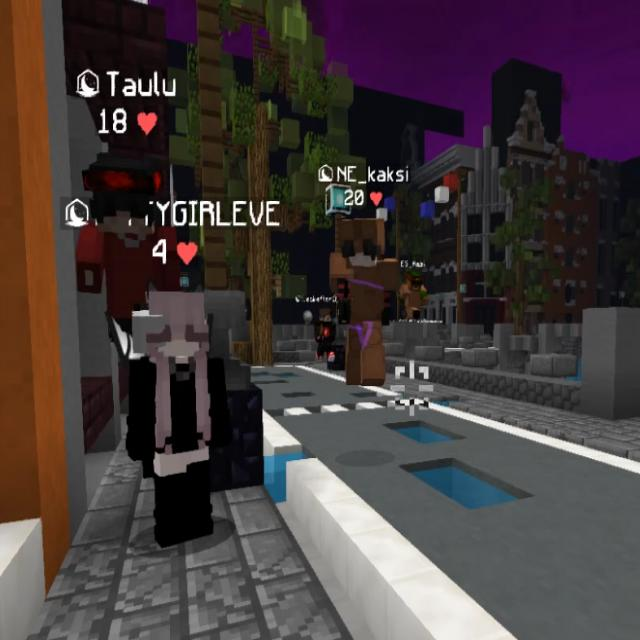Player: (125, 290, 227, 546), (77, 151, 178, 301), (328, 215, 394, 384), (398, 270, 428, 322), (314, 309, 336, 363)
